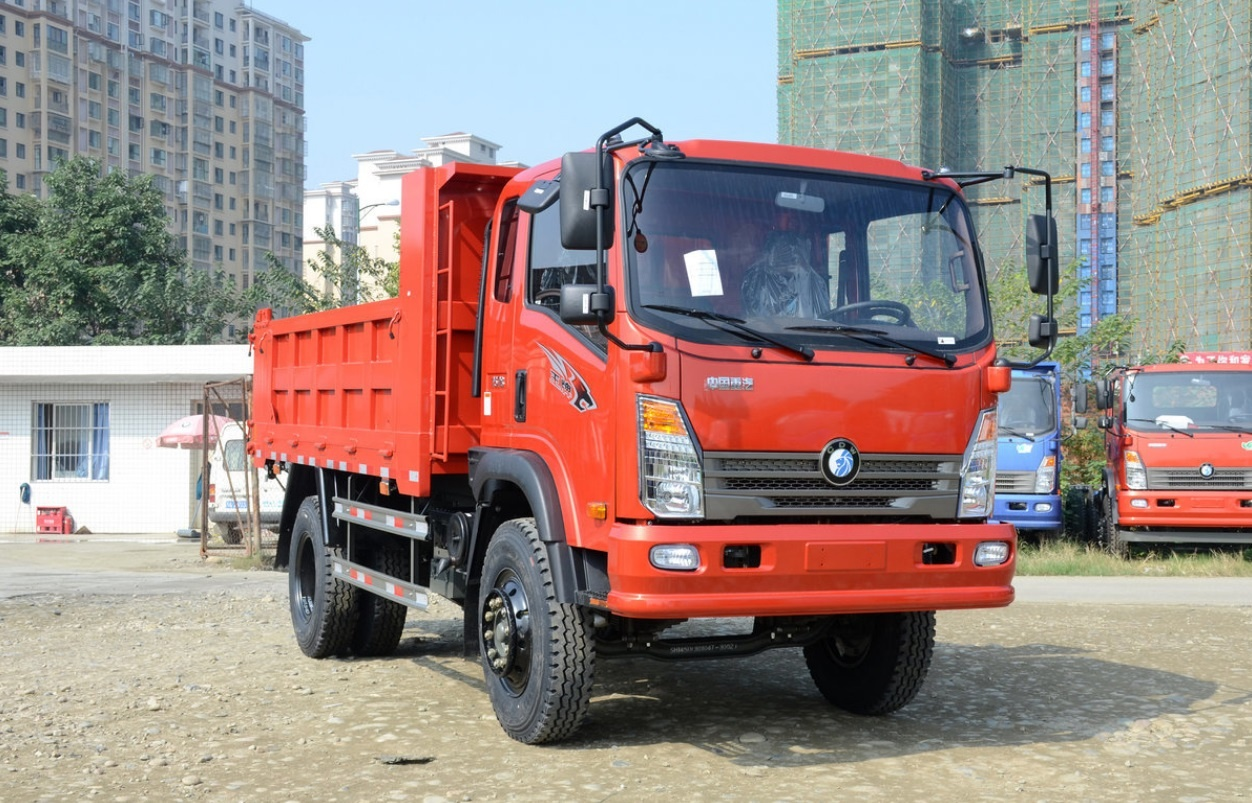heavy truck: (244, 119, 1053, 742)
